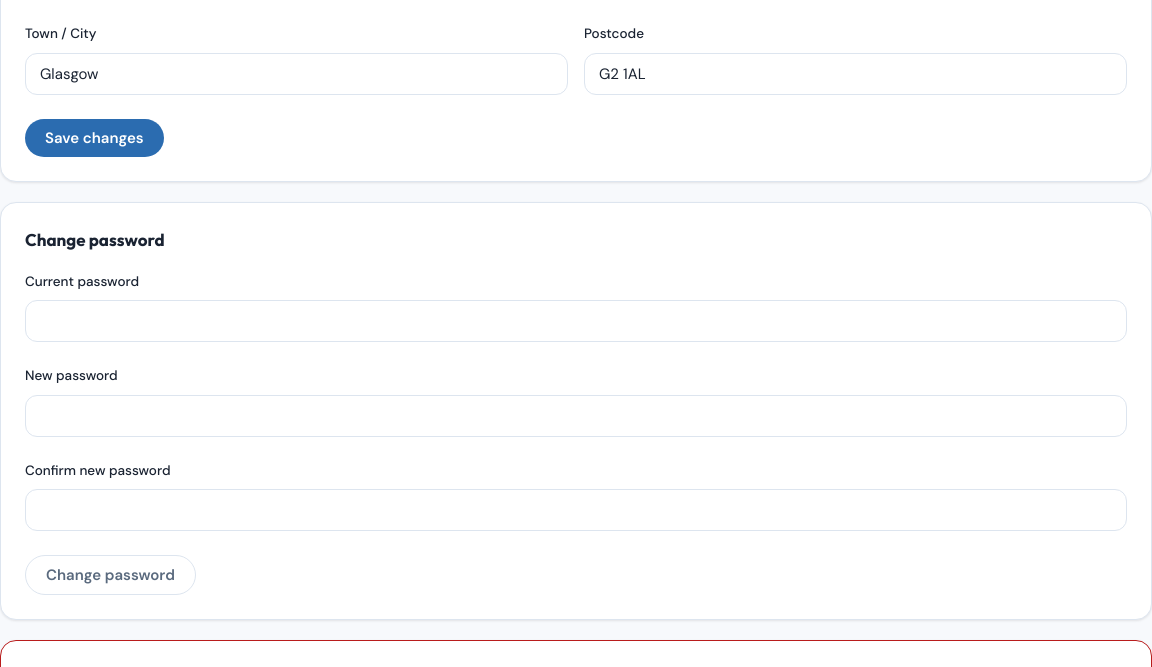
Scenario: Profile page › shows an error and does not submit when the new passwords do not match
(page scrolled)
Type "OldPassword123" into the password field labelled "Current password" at (576, 321), box [25,300,1127,342]
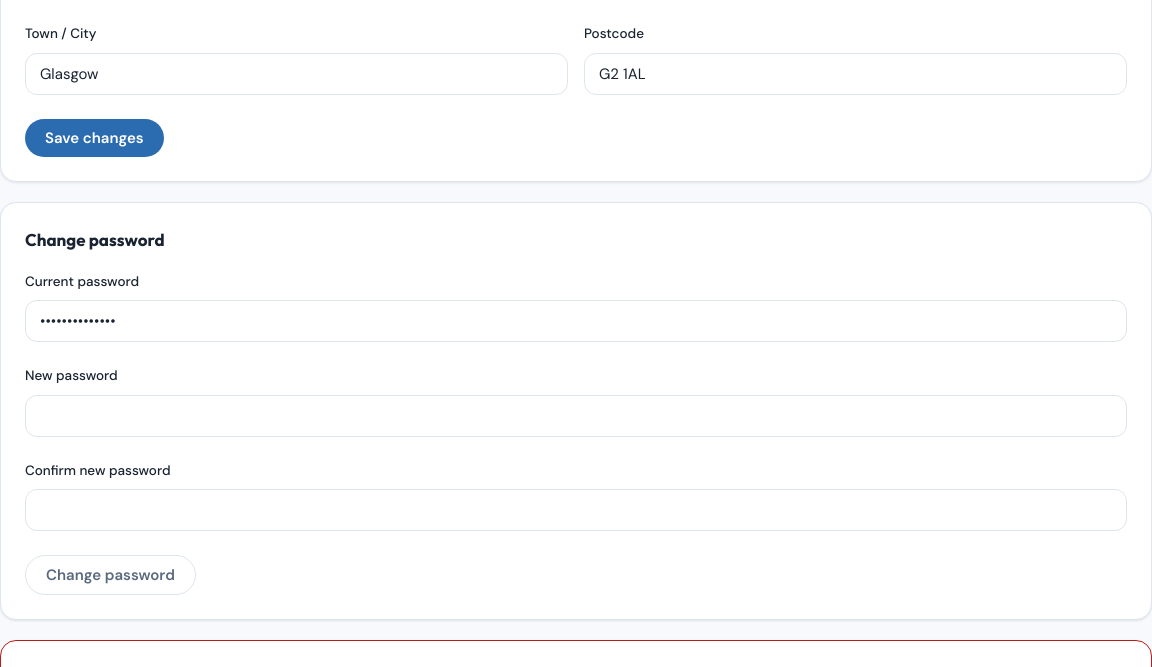
Type "NewPassword456" into the password field labelled "New password" at (576, 416), box [25,394,1127,436]
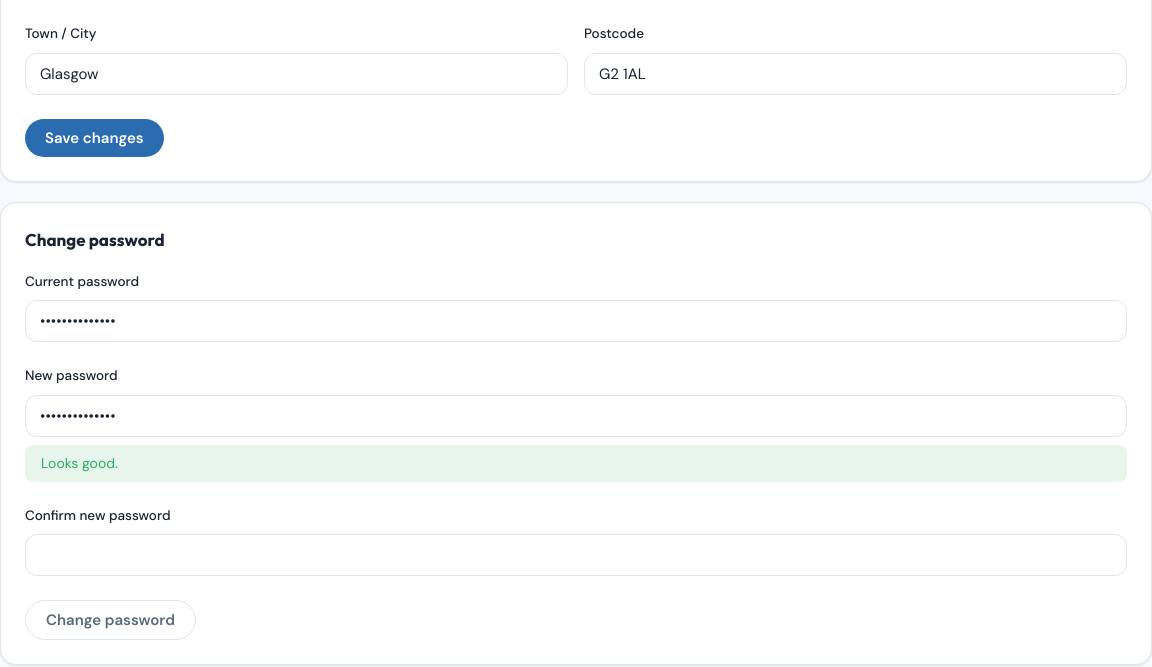
Type "Mismatch789" into the password field labelled "Confirm new password" at (576, 555), box [25,534,1127,576]
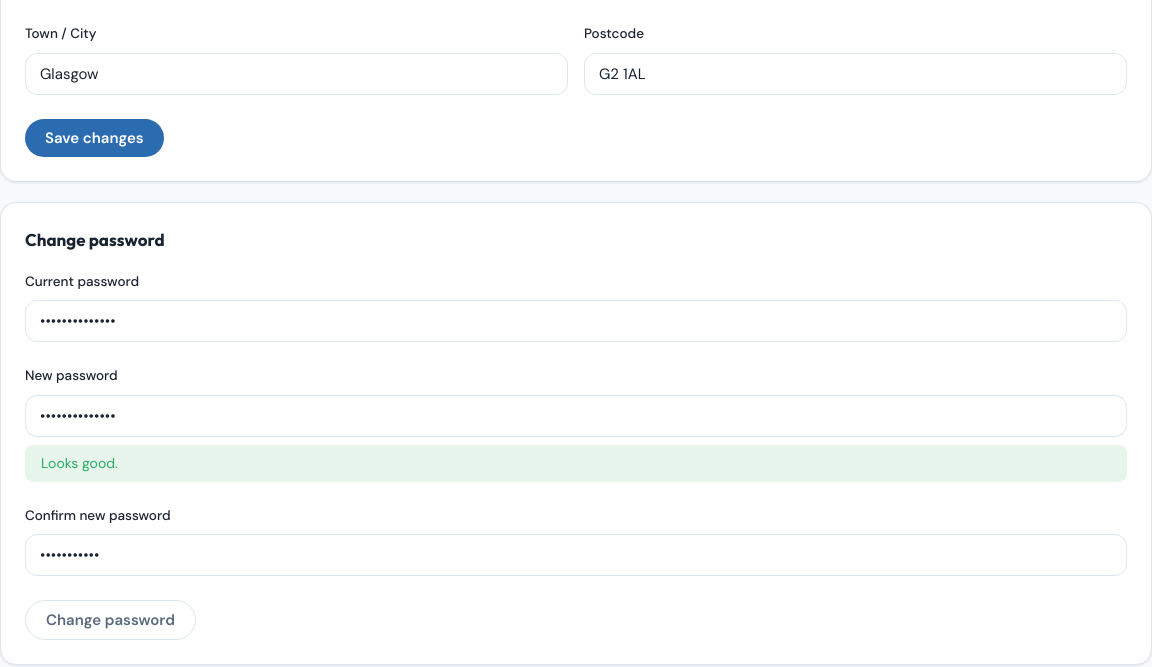
Click the button "Change password" at (110, 620), box [25,600,196,640]
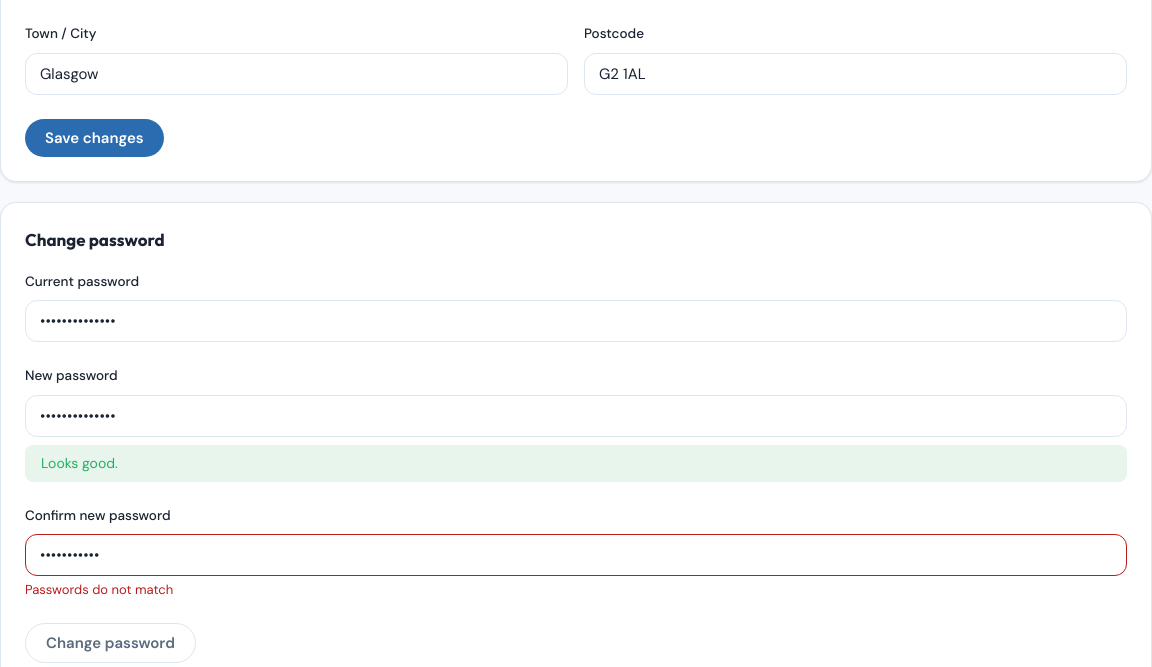
Result: the text "Passwords do not match" is shown at [25,581,173,598]
